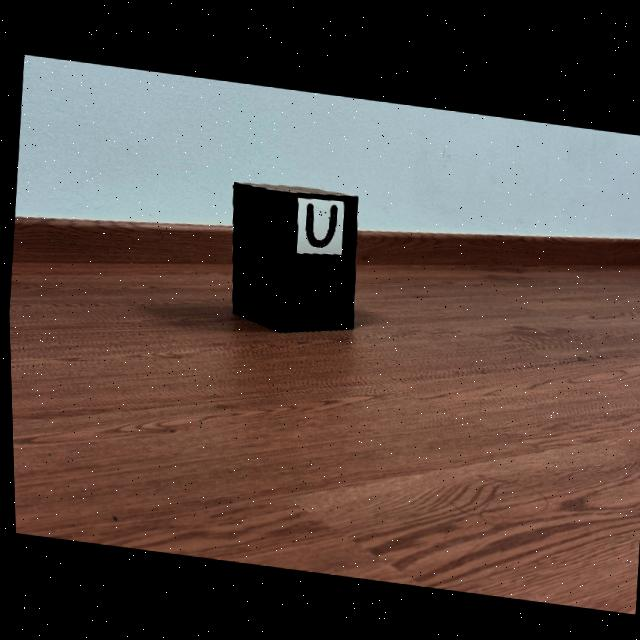U: (304, 200, 336, 245)
